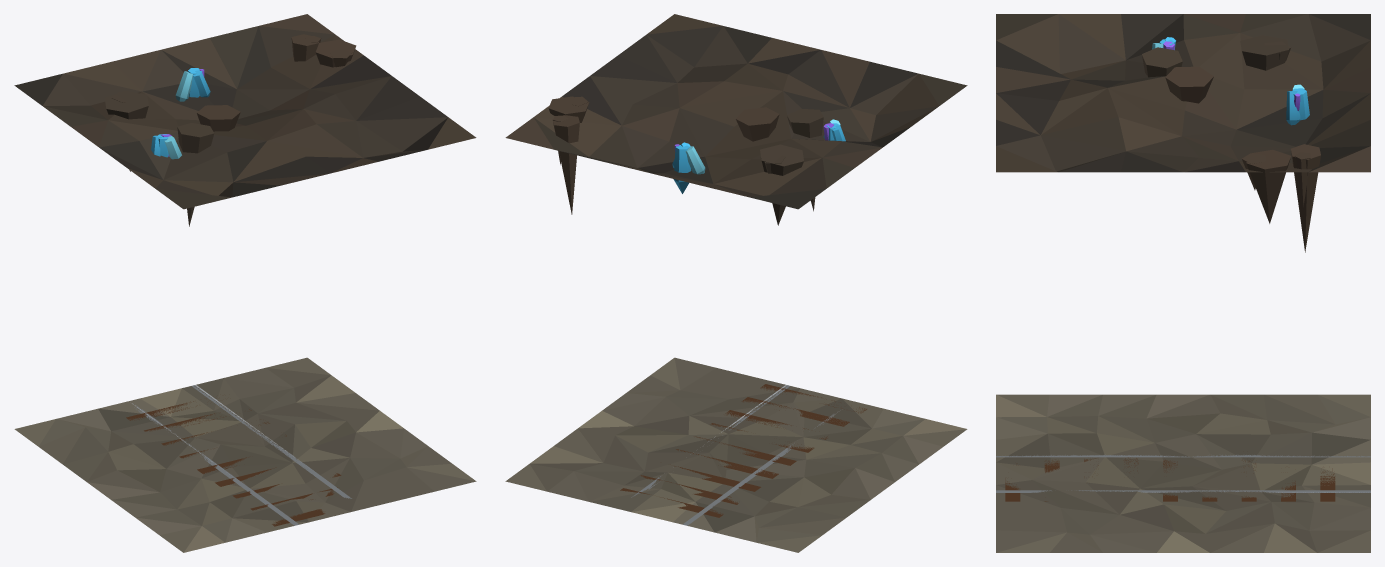
File: floor_b.fbx
3 views of the same model, side by side, from view 1: azimuth 30°, elevation 25°; view 2: azimuth 150°, elevation 25°; view 3: azimuth 270°, elevation 25° (orthographic). The views are drawn at different scales.
Visible parts, largest first — view 1: Ceiling, floor_b; view 2: Ceiling, floor_b; view 3: Ceiling, floor_b.
Boxes of the visible parts, x1,y1,x2,y2 form: Ceiling: (14,14,476,226); floor_b: (14,357,476,552); Ceiling: (505,14,967,225); floor_b: (505,357,967,552); Ceiling: (996,14,1370,252); floor_b: (996,394,1370,552).
Size of the model in its own units: 4.01 by 4.54 by 4.
